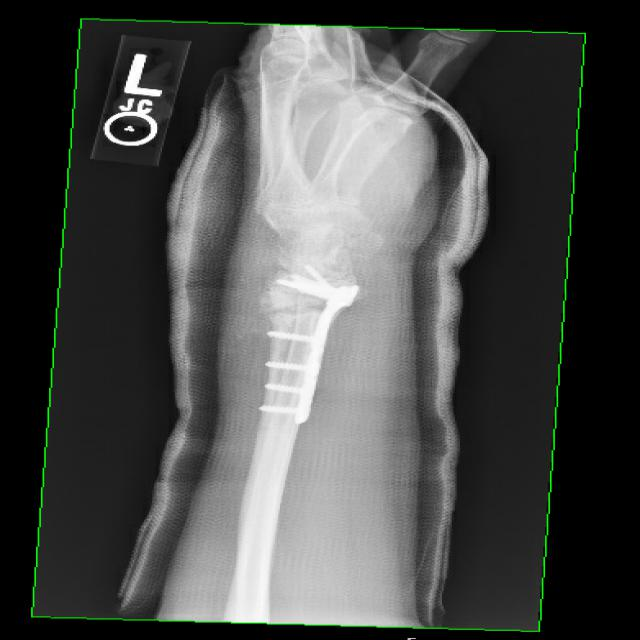x-ray: (254, 268, 366, 441)
